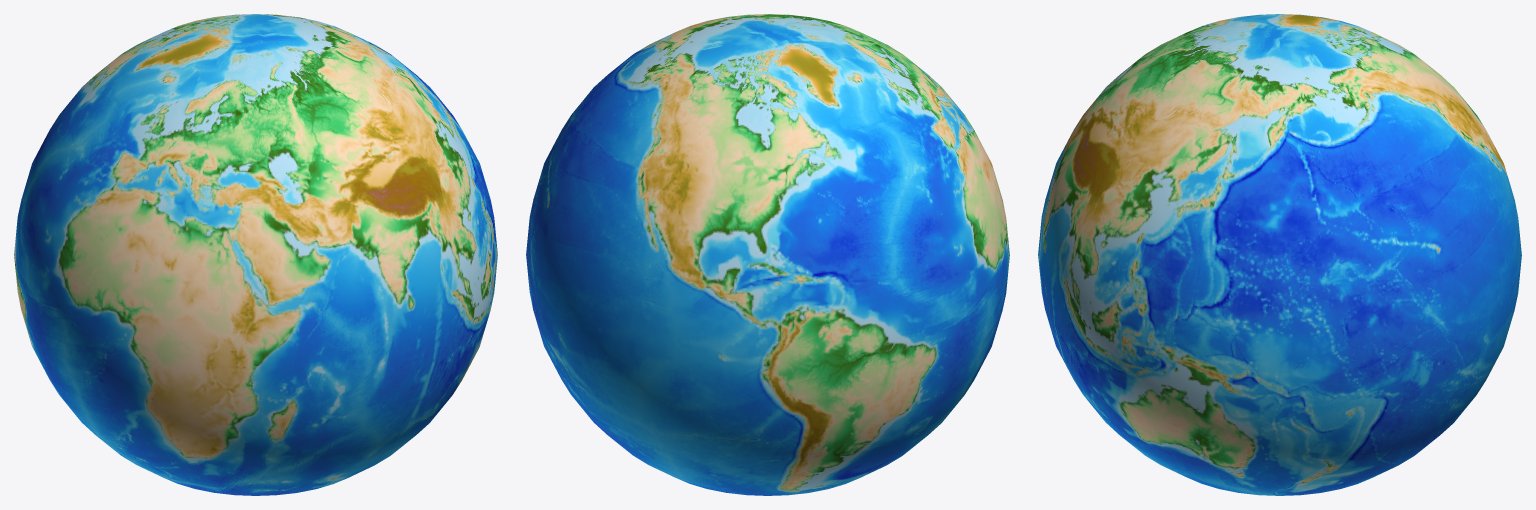
The model's file is Earth.obj.
3 views of the same model, side by side, from view 1: azimuth 30°, elevation 25°; view 2: azimuth 150°, elevation 25°; view 3: azimuth 270°, elevation 25° (orthographic).
Parts seen in each view (by area): view 1: 1_1; view 2: 1_1; view 3: 1_1.
Boxes of the visible parts, x1,y1,x2,y2 form: 1_1: [14, 14, 497, 495]; 1_1: [526, 14, 1009, 495]; 1_1: [1038, 14, 1521, 495].
Size of the model in its own units: 100 by 100 by 100.
Materials: 1 (1 with a texture image).
